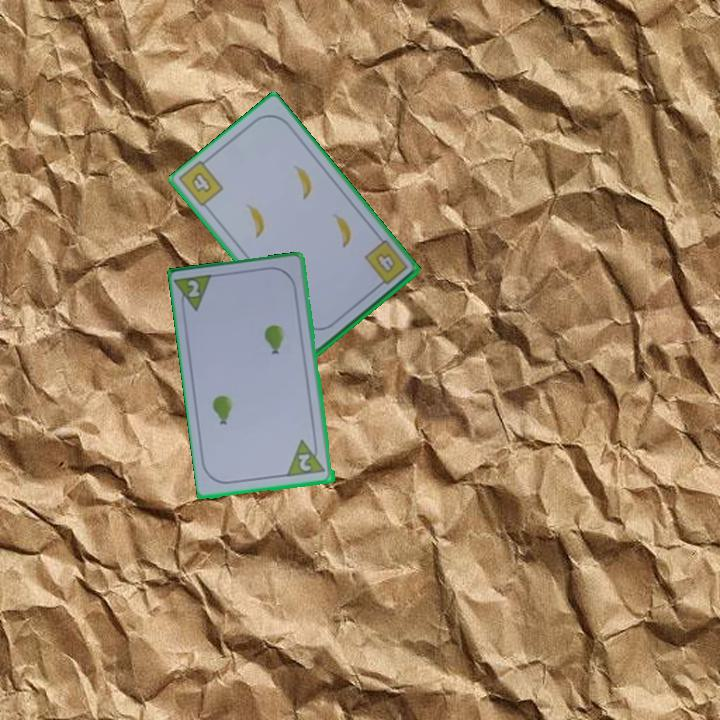2p: (173, 271, 218, 317), (285, 435, 329, 480)
4b: (361, 236, 411, 291), (187, 168, 214, 196)
